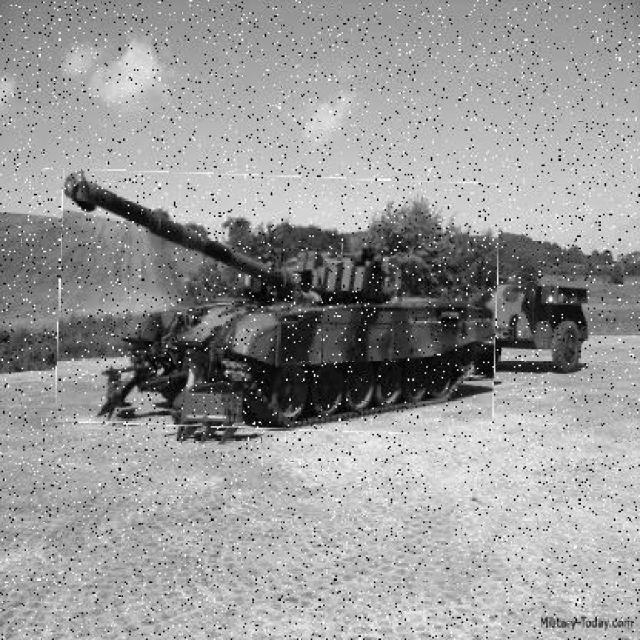Tank: (60, 175, 500, 433)
